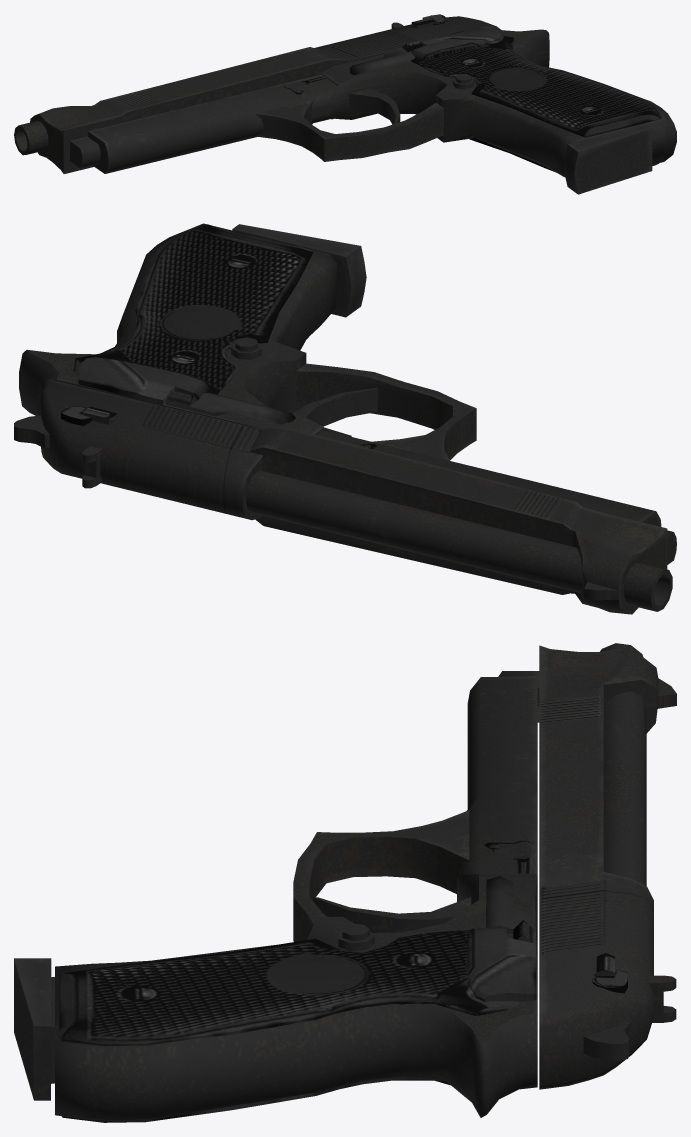
The model's file is pistol.obj.
The picture shows the model from 3 angles, top to bottom: view 1: azimuth 30°, elevation 25°; view 2: azimuth 150°, elevation 25°; view 3: azimuth 270°, elevation 25°; orthographic projection. The views are drawn at different scales.
Parts seen in each view (by area): view 1: Cube_Cube_teksutra, Cube.003_Cube.003_teksutra, Cube.008_Cube.009_teksutra, Cube.001_Cube.001_teksutra, Cube.004_Cube.004_teksutra, Cube.007_Cube.007_teksutra, Cube.005_Cube.005_teksutra, Cylinder_Cylinder_teksutra, Plane_Plane_teksutra, Cube.002_Cube.002_teksutra; view 2: Cube.003_Cube.003_teksutra, Cube.008_Cube.009_teksutra, Cylinder_Cylinder_teksutra, Cube_Cube_teksutra, Cube.004_Cube.004_teksutra, Cube.001_Cube.001_teksutra, Cube.007_Cube.007_teksutra, Plane_Plane_teksutra, Cube.005_Cube.005_teksutra, Cube.009_Cube.006_teksutra, Circle.001_Circle.001_teksutra; view 3: Cube_Cube_teksutra, Cube.008_Cube.009_teksutra, Cube.003_Cube.003_teksutra, Cube.001_Cube.001_teksutra, Cube.004_Cube.004_teksutra, Cylinder_Cylinder_teksutra, Cube.007_Cube.007_teksutra, Cube.005_Cube.005_teksutra, Plane_Plane_teksutra, Cube.009_Cube.006_teksutra, Circle.001_Circle.001_teksutra, Cylinder.002_Cylinder.002_teksutra.
Part boxes in pixels (x1=…): Cube_Cube_teksutra: x1=321, y1=27, x2=676, y2=177; Cube.003_Cube.003_teksutra: x1=30, y1=16, x2=500, y2=173; Cube.008_Cube.009_teksutra: x1=411, y1=28, x2=661, y2=172; Cube.001_Cube.001_teksutra: x1=88, y1=74, x2=336, y2=173; Cube.004_Cube.004_teksutra: x1=255, y1=99, x2=443, y2=161; Cube.007_Cube.007_teksutra: x1=563, y1=125, x2=652, y2=194; Cube.005_Cube.005_teksutra: x1=349, y1=88, x2=400, y2=124; Cylinder_Cylinder_teksutra: x1=14, y1=120, x2=48, y2=155; Plane_Plane_teksutra: x1=349, y1=40, x2=423, y2=74; Cube.002_Cube.002_teksutra: x1=70, y1=136, x2=100, y2=168; Cube.003_Cube.003_teksutra: x1=40, y1=379, x2=667, y2=614; Cube.008_Cube.009_teksutra: x1=73, y1=224, x2=313, y2=404; Cylinder_Cylinder_teksutra: x1=246, y1=470, x2=672, y2=611; Cube_Cube_teksutra: x1=19, y1=223, x2=351, y2=436; Cube.004_Cube.004_teksutra: x1=295, y1=363, x2=476, y2=460; Cube.001_Cube.001_teksutra: x1=317, y1=430, x2=661, y2=526; Cube.007_Cube.007_teksutra: x1=232, y1=224, x2=366, y2=317; Plane_Plane_teksutra: x1=166, y1=390, x2=295, y2=424; Cube.005_Cube.005_teksutra: x1=293, y1=387, x2=377, y2=426; Cube.009_Cube.006_teksutra: x1=14, y1=415, x2=49, y2=448; Circle.001_Circle.001_teksutra: x1=82, y1=446, x2=102, y2=488; Cube_Cube_teksutra: x1=55, y1=873, x2=537, y2=1120; Cube.008_Cube.009_teksutra: x1=59, y1=927, x2=536, y2=1122; Cube.003_Cube.003_teksutra: x1=539, y1=645, x2=676, y2=1089; Cube.001_Cube.001_teksutra: x1=460, y1=676, x2=537, y2=875; Cube.004_Cube.004_teksutra: x1=293, y1=810, x2=469, y2=941; Cylinder_Cylinder_teksutra: x1=600, y1=643, x2=646, y2=885; Cube.007_Cube.007_teksutra: x1=14, y1=958, x2=54, y2=1100; Cube.005_Cube.005_teksutra: x1=313, y1=897, x2=471, y2=932; Plane_Plane_teksutra: x1=486, y1=876, x2=533, y2=943; Cube.009_Cube.006_teksutra: x1=583, y1=1021, x2=630, y2=1060; Circle.001_Circle.001_teksutra: x1=648, y1=975, x2=676, y2=1022; Cylinder.002_Cylinder.002_teksutra: x1=338, y1=923, x2=374, y2=950.
Bounding box in the file's own units: 3.25 × 0.3708 × 2.13.
Materials: 2 (1 with a texture image).
